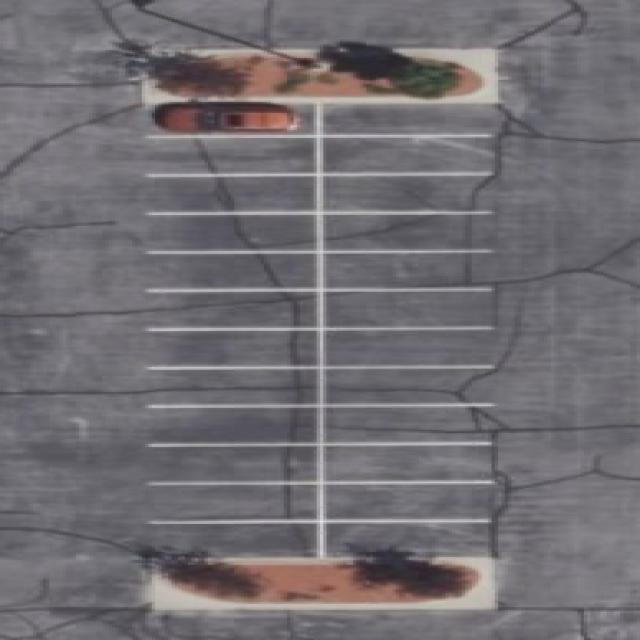Empty: (148, 366, 324, 406), (146, 173, 320, 213), (148, 252, 322, 292), (147, 290, 321, 330), (147, 213, 320, 253), (150, 328, 322, 368), (150, 406, 322, 446), (150, 482, 322, 522), (322, 404, 494, 444), (148, 136, 318, 176), (323, 328, 493, 368), (327, 520, 496, 560), (320, 288, 488, 328), (322, 212, 488, 252), (322, 443, 492, 482), (148, 522, 320, 560), (322, 366, 494, 404), (319, 252, 491, 290), (321, 135, 491, 173), (154, 445, 322, 483), (324, 482, 492, 520), (321, 174, 489, 212), (321, 100, 491, 136)
Parked: (146, 100, 318, 136)
